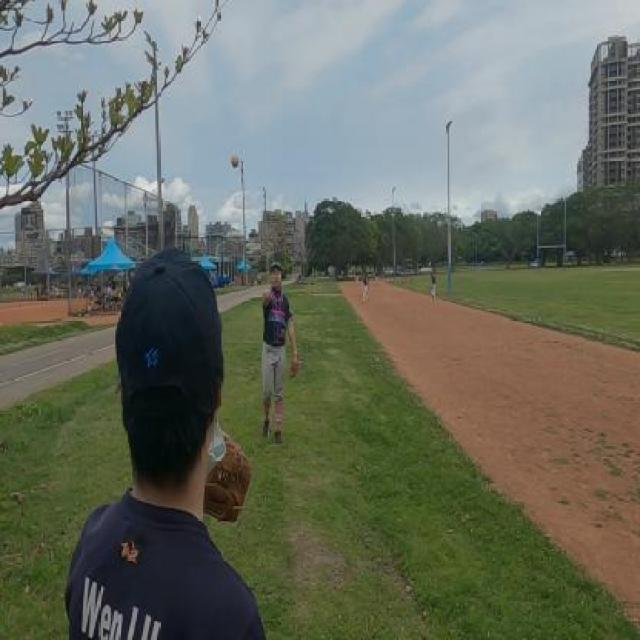baseball: (232, 153, 239, 169)
